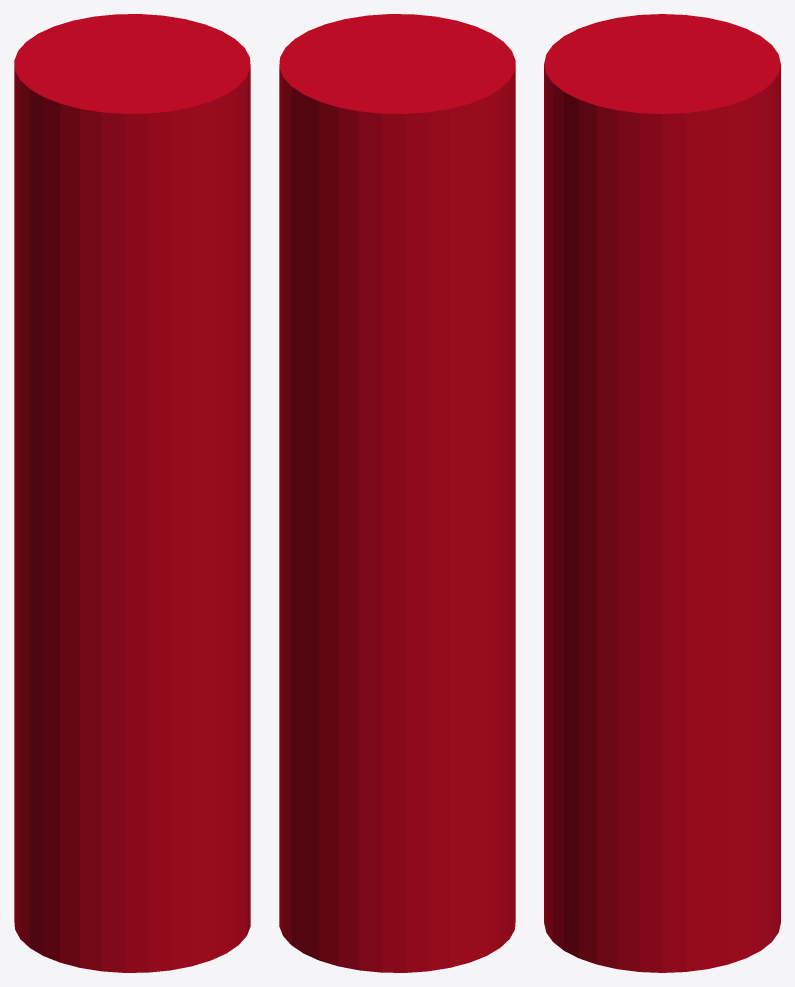
The model's file is basicLaser.dae.
The picture shows the model from 3 angles, left to right: view 1: azimuth 30°, elevation 25°; view 2: azimuth 150°, elevation 25°; view 3: azimuth 270°, elevation 25°; orthographic projection.
Parts seen in each view (by area): view 1: Cylinder; view 2: Cylinder; view 3: Cylinder.
Part boxes in pixels (<box>): Cylinder: <box>14,14,250,972</box>; Cylinder: <box>279,14,515,972</box>; Cylinder: <box>544,14,780,972</box>.
Bounding box in the file's own units: 0.5 × 0.5 × 2.
